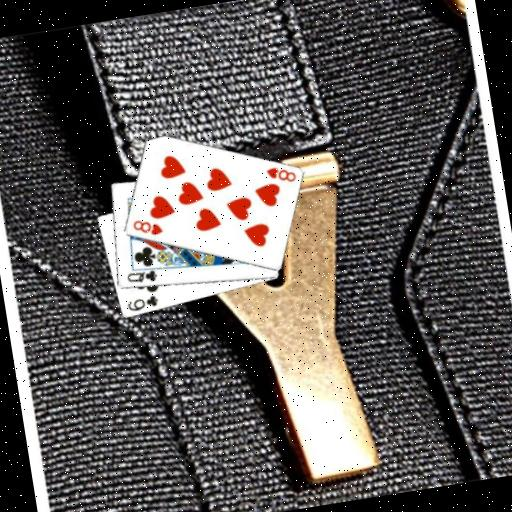6C: (123, 291, 160, 313)
8H: (128, 213, 164, 240), (263, 161, 298, 187)
QC: (123, 266, 159, 287)
